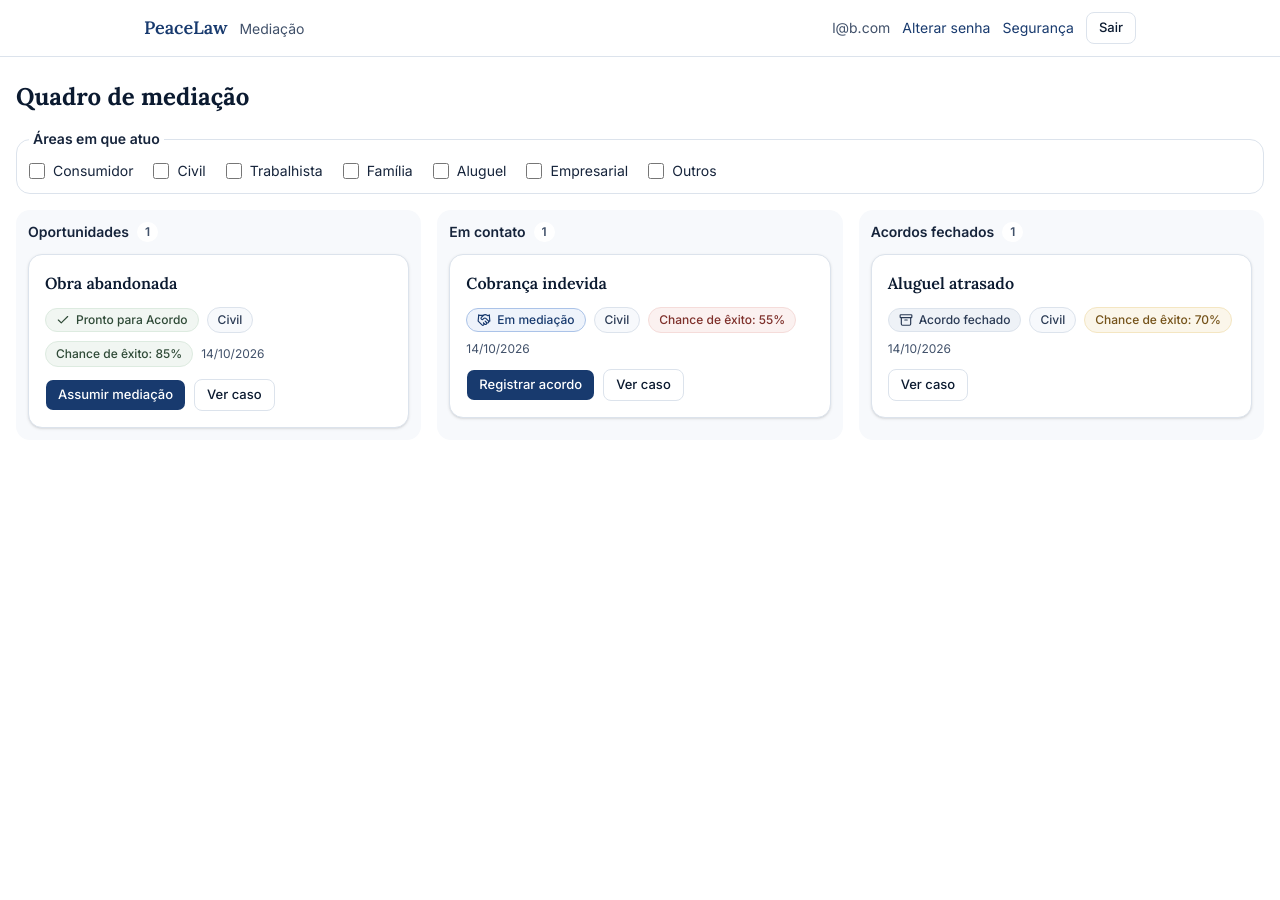
Test case: LawyerBoard › takes an opportunity into mediation and focuses the moved card
What coordinates should you click on to do the following:
click the button "Assumir mediação"
I would click on:
 (116, 395)
Its box is [45,379,186,411].
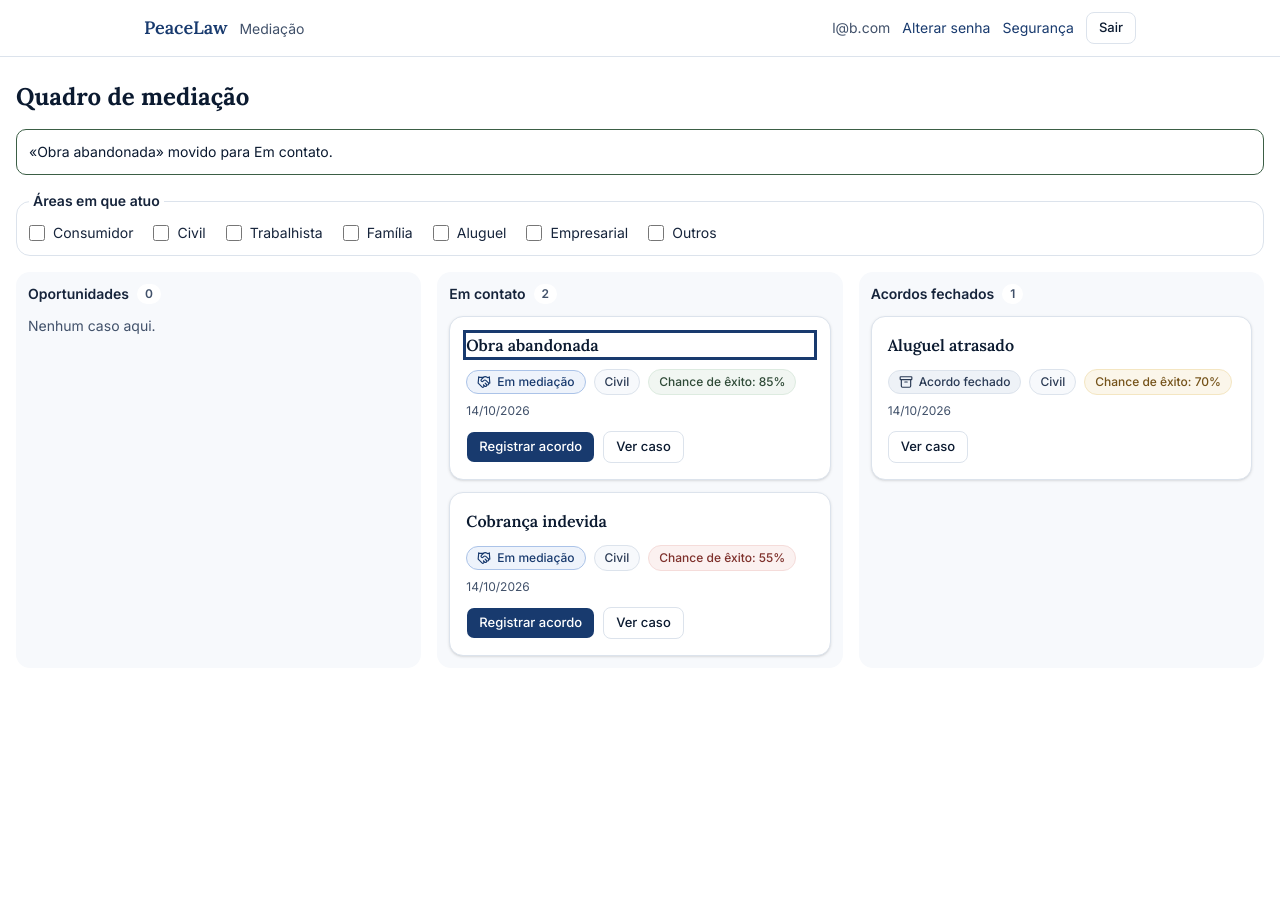
Check: the text "«Obra abandonada» movido para Em contato." is shown, box [16,129,1264,175]
